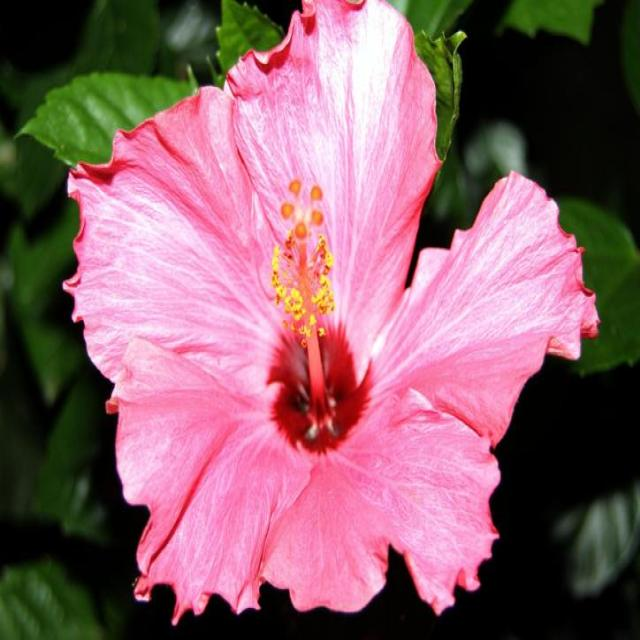hibiscus: (32, 6, 627, 618)
